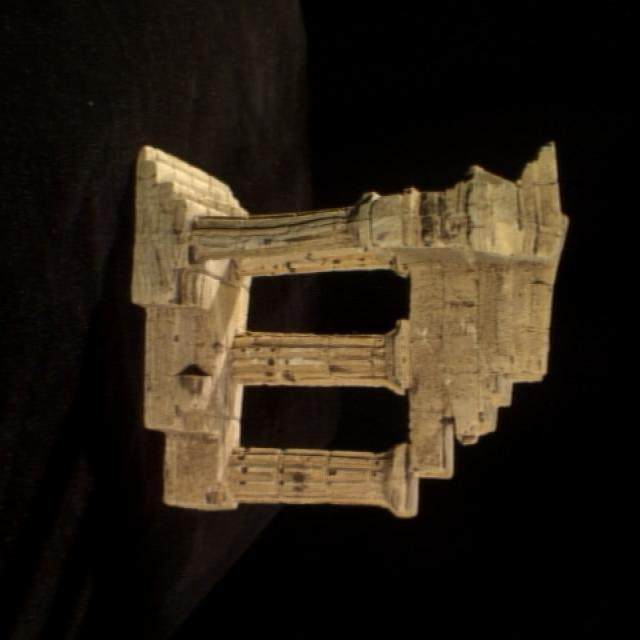Instance-Segmentation: (131, 144, 567, 516)
